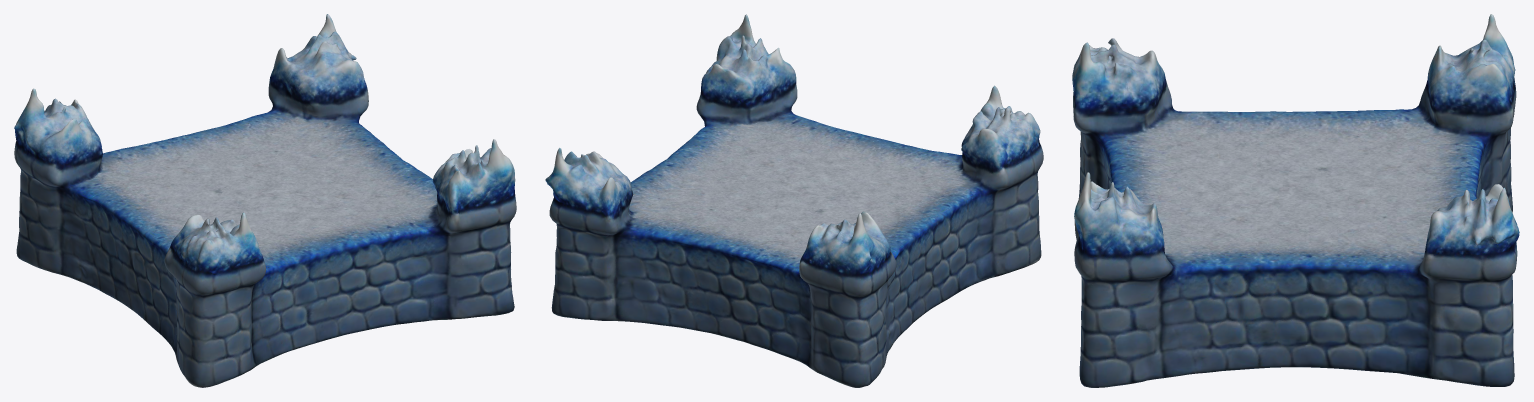
Rendered from 937429e5a68a_create_low_wall_sno.fbx.
3 views of the same model, side by side, from view 1: azimuth 30°, elevation 25°; view 2: azimuth 150°, elevation 25°; view 3: azimuth 270°, elevation 25° (orthographic). The views are drawn at different scales.
Visible parts, largest first — view 1: high_poly; view 2: high_poly; view 3: high_poly.
Boxes of the visible parts, x1,y1,x2,y2 form: high_poly: (14, 14, 516, 387); high_poly: (545, 14, 1043, 387); high_poly: (1072, 14, 1519, 387).
Size of the model in its own units: 100 by 50.61 by 99.58.
